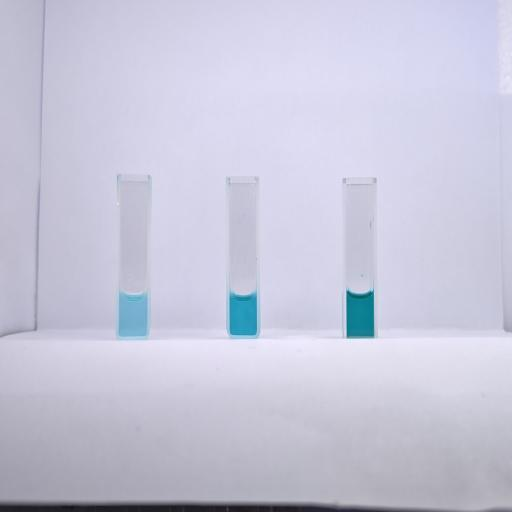cuvette: (340, 175, 380, 340), (114, 172, 153, 340), (224, 174, 262, 340)
liquid: (346, 291, 374, 336), (119, 293, 147, 336), (230, 293, 257, 335)
